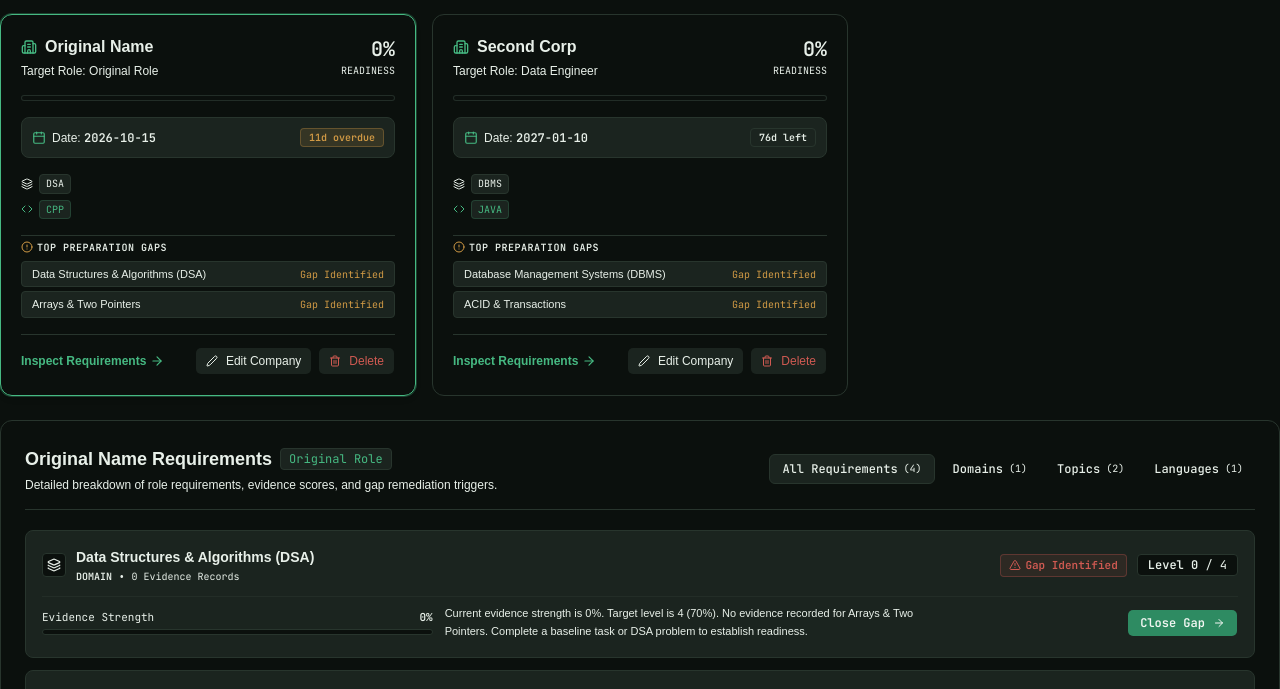
Test: C4 — CompanyModal lifecycle (C4-01) › C. switching the edit target shows B's values, not A's
This screenshot has width=1280, height=689.
(page scrolled)
Click the button "Edit Company" below "2026-10-15": (254, 361) [195, 347, 312, 375]
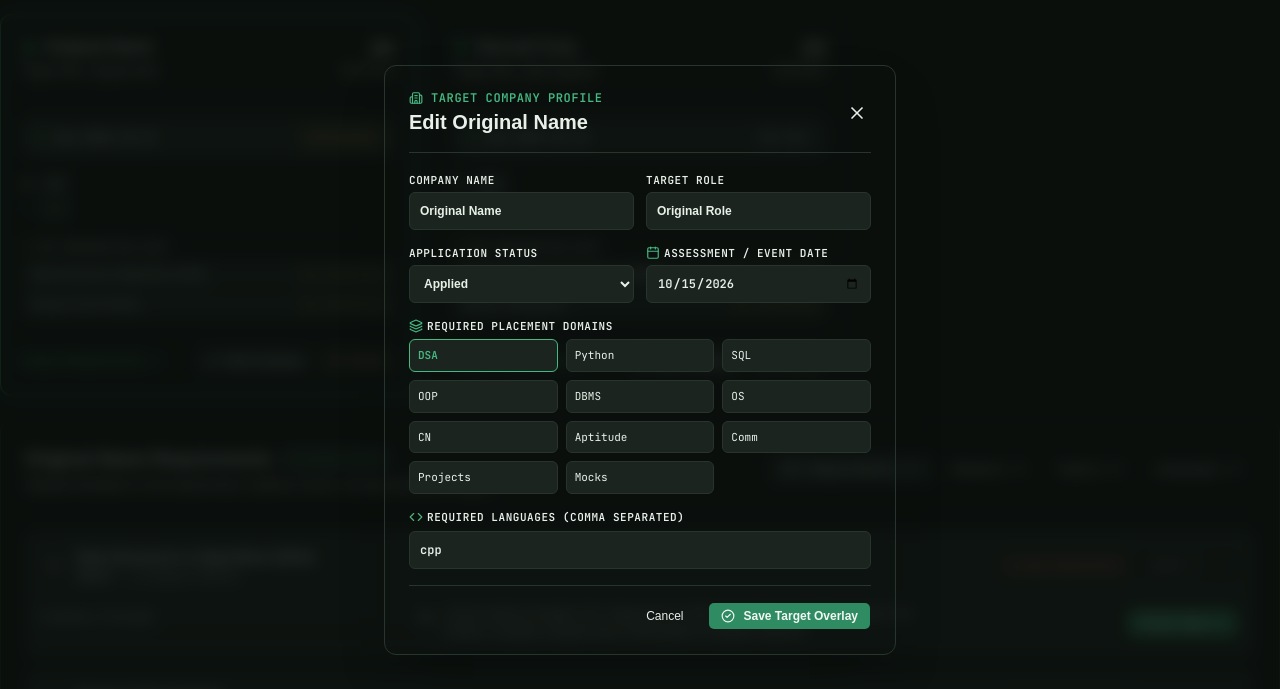
expect the field with placeholder "e.g. Google, Amazon, Microsoft" holds "Original Name": met, box [409, 192, 634, 230]
expect the field with placeholder "e.g. SDE-1, Software Intern" holds "Original Role": met, box [646, 192, 871, 230]
Click the button "Cancel": (665, 616) [633, 602, 696, 630]
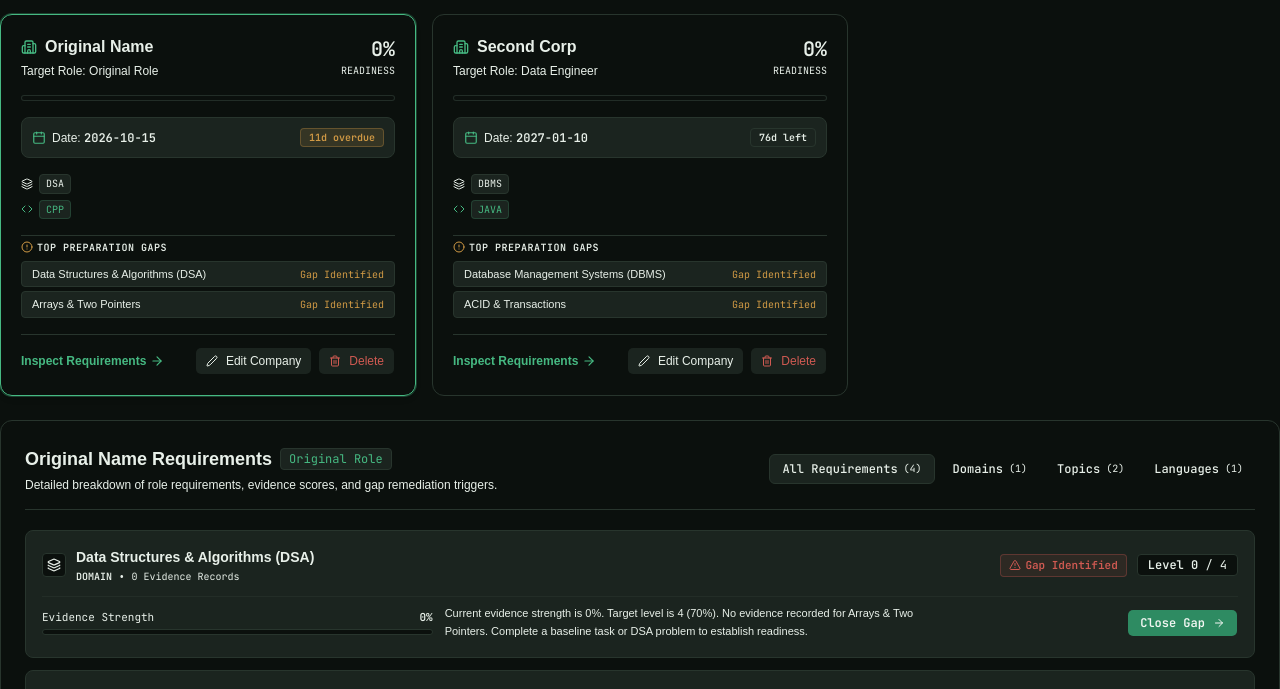
Click the button "Edit Company" below "Database Management Systems (DBMS)": (686, 361) [627, 347, 744, 375]
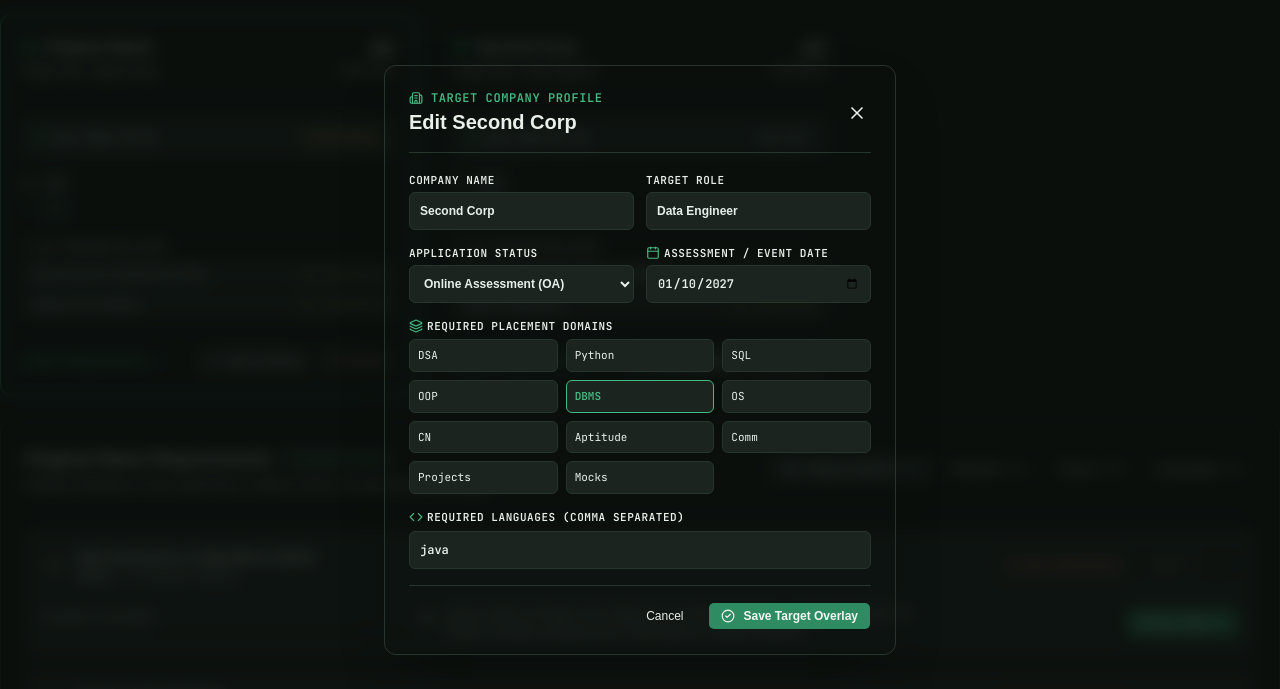
expect the field with placeholder "e.g. Google, Amazon, Microsoft" holds "Second Corp": met, box [409, 192, 634, 230]
expect the field with placeholder "e.g. SDE-1, Software Intern" holds "Data Engineer": met, box [646, 192, 871, 230]
expect the date field labelled "Assessment / Event Date" holds "2027-01-10": met, box [646, 265, 871, 303]
